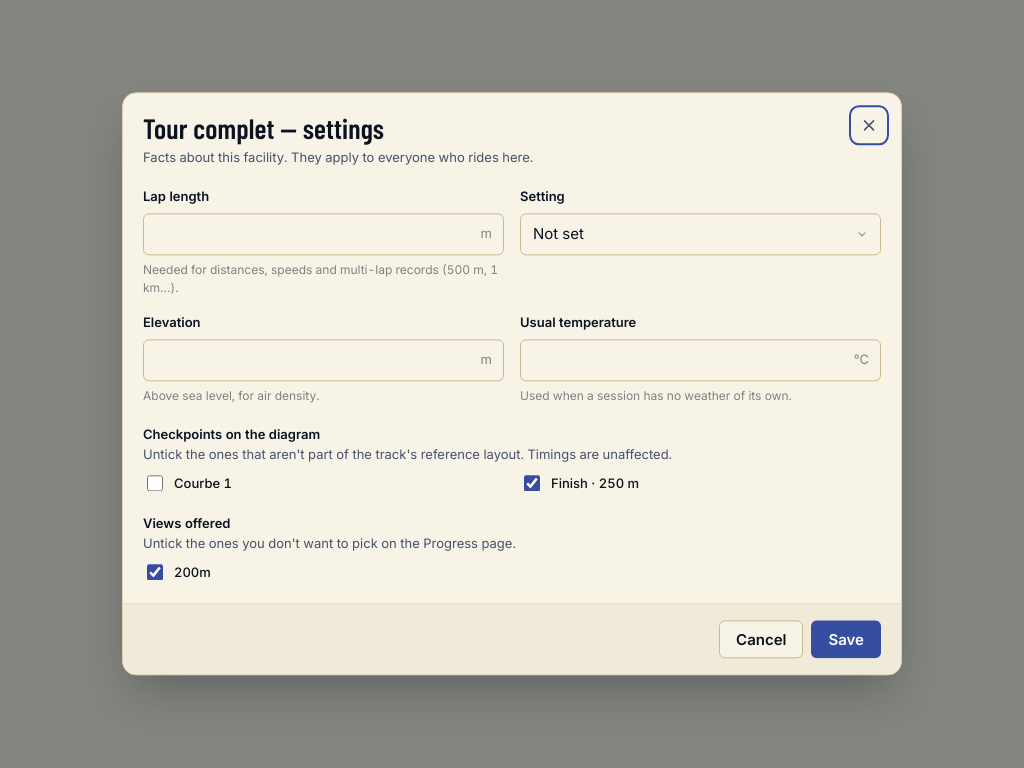
Test: TrackSettingsDialog › shows why a save failed and stays open
The width and height of the screenshot is (1024, 768).
Click the button "Save" at x=846, y=640, box x1=812 y1=621 x2=881 y2=659
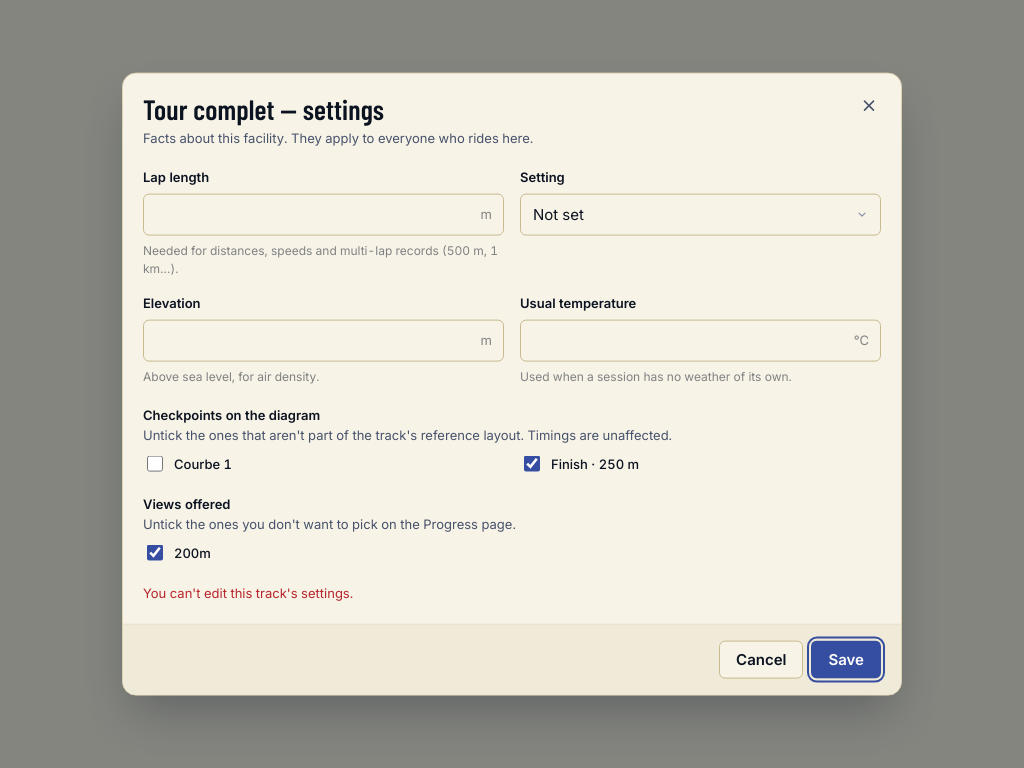
Now the message reads "You can't edit this track's settings.", box x1=143 y1=585 x2=353 y2=601
